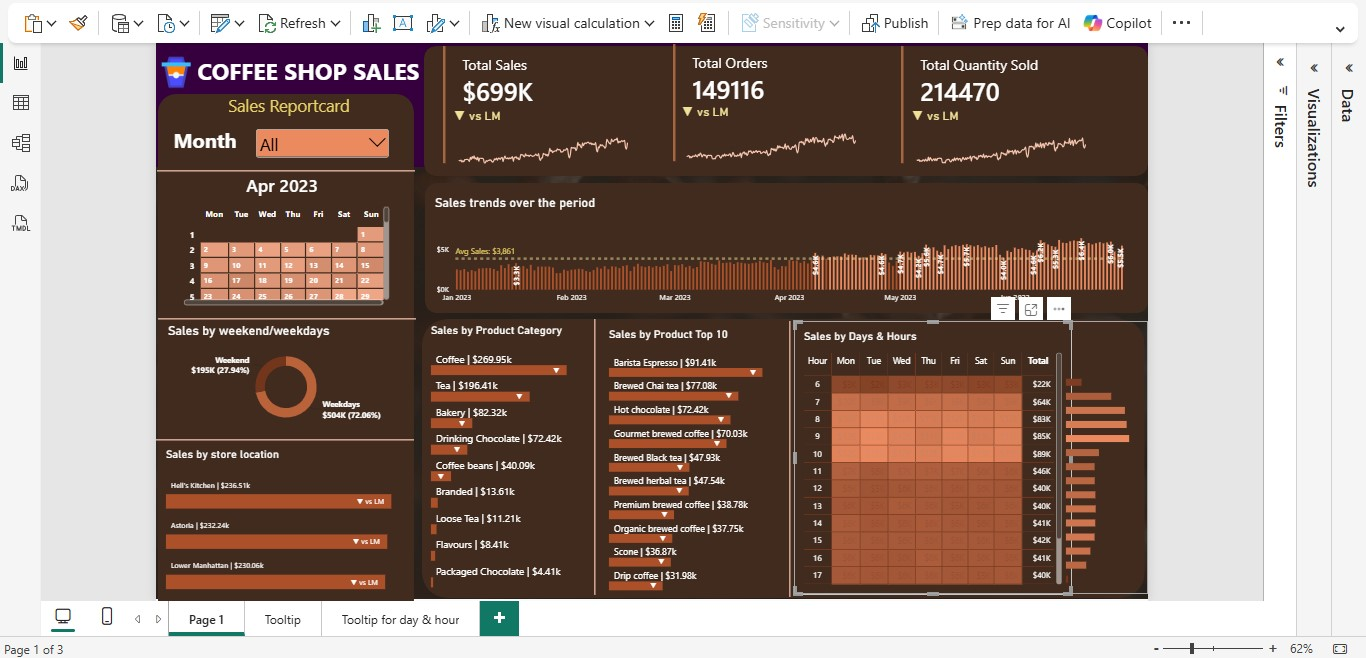

This screenshot's page, from the dashboard's own definition file:
{"tool":"powerbi","page":{"name":"Page 1","canvas":[1600,900],"ordinal":0},"visuals":[{"type":"shape","box":[0,0,1920,200],"z":0},{"type":"cardVisual","fields":{"Data":["Transactions.Total Orders"]},"box":[834.2,1.8,324.1,189.9],"z":0,"group":"g2"},{"type":"cardVisual","fields":{"Data":["Transactions.Total Sales"]},"box":[462.7,5.3,324.1,189.9],"z":0,"group":"g1"},{"type":"cardVisual","fields":{"Data":["Transactions.Total Quantity Sold"]},"box":[1201.5,5.3,324.1,189.9],"z":0,"group":"g3"},{"type":"pivotTable","title":"Sales by Days & Hours","fields":{"Columns":["DateTable.Day Name"],"Rows":["Transactions.Hour"],"Values":["Transactions.Total Sales"]},"box":[1029.2,447.7,448.2,441.1],"z":0,"group":"g4"},{"type":"shape","box":[3.5,81.5,412.8,997.4],"z":1000},{"type":"lineChart","fields":{"Category":["DateTable.Date Hierarchy.Date"],"Y":["Transactions.Total Orders"]},"box":[830.9,86,323.4,118.7],"z":1000,"group":"g2"},{"type":"lineChart","fields":{"Category":["DateTable.Date Hierarchy.Date"],"Y":["Transactions.Total Sales"]},"box":[462.4,92.8,323.4,118.7],"z":1000,"group":"g1"},{"type":"lineChart","fields":{"Category":["DateTable.Date Hierarchy.Date"],"Y":["Transactions.Total Quantity Sold"]},"box":[1201.2,92.8,323.4,118.7],"z":1000,"group":"g3"},{"type":"barChart","fields":{"Category":["Transactions.Hour"],"Y":["Transactions.Total Sales"]},"box":[1452.3,515.6,147,373.8],"z":1000,"group":"g4"},{"type":"shape","box":[432.3,5.3,1167.7,209.7],"z":2000},{"type":"textbox","box":[29,19.4,433.9,62.9],"z":3000},{"type":"slicer","fields":{"Values":["DateTable.Month Year"]},"box":[156.5,133.9,224.2,58.1],"z":4000},{"type":"group","id":"g1","title":"Group 1","box":[462.4,5.3,324.2,207.3],"z":5000},{"type":"group","id":"g2","title":"Group 1","box":[830.9,1.8,327.8,203.7],"z":6000},{"type":"group","id":"g3","title":"Group 1","box":[1201.2,5.3,326,205.5],"z":7000},{"type":"pivotTable","fields":{"Columns":["DateTable.Day Name"],"Rows":["DateTable.Week Number"],"Values":["Min(DateTable.Day Number)"]},"box":[29,250,362.9,188.7],"z":8000},{"type":"card","fields":{"Values":["Min(DateTable.Month Year)"]},"box":[118.7,199.6,168.3,63.8],"z":9000},{"type":"shape","box":[3.4,438.7,416.3,12.4],"z":10000},{"type":"shape","box":[1.7,199.6,416.3,12.4],"z":11000},{"type":"donutChart","title":"Sales by weekend/weekdays","fields":{"Category":["DateTable.Weekdays / Weekend"],"Y":["Transactions.Total Sales"]},"box":[3.4,438.7,412.8,194.9],"z":12000},{"type":"shape","box":[995.7,568.7,416.3,12.4],"z":13000},{"type":"clusteredBarChart","title":"Sales by store location","fields":{"Category":["Transactions.store_location"],"Y":["Transactions.Placeholder","Transactions.Total Sales"]},"box":[0,638.3,416.3,261.5],"z":14000},{"type":"shape","box":[433.9,225.8,1166.5,209.9],"z":15000},{"type":"columnChart","title":"Sales trends over the period","fields":{"Category":["Transactions.transaction_date"],"Y":["Transactions.Total Sales"]},"box":[433.9,232.3,1166.5,206.5],"z":16000},{"type":"shape","box":[428.7,444.7,1165.7,450],"z":17000},{"type":"clusteredBarChart","title":"Sales by Product Category","fields":{"Category":["Transactions.product_category"],"Y":["Transactions.Placeholder","Transactions.Total Sales"]},"box":[426.7,438.7,275.3,455.9],"z":18000},{"type":"shape","box":[0,634.3,416.3,12.4],"z":19000},{"type":"shape","box":[701.9,445.6,12.4,444.7],"z":20000},{"type":"clusteredBarChart","title":"Sales by Product Top 10","fields":{"Category":["Transactions.product_type"],"Y":["Transactions.Placeholder","Transactions.Total Sales"]},"box":[714,445.6,302.8,454.2],"z":21000},{"type":"shape","box":[1016.8,449,12.4,444.7],"z":22000},{"type":"group","id":"g4","title":"Group 2","box":[1029.2,447.7,570.1,441.7],"z":23000},{"type":"textbox","box":[1.6,133.9,154.8,58.1],"z":23001},{"type":"textbox","box":[29,82.3,371,51.6],"z":23002},{"type":"image","box":[0,0,64.5,91.9],"z":23003}]}

Visuals, with their boxes on the page's 1600x900 design canvas (x1, y1, x2, y2). These are canvas units, not pixel positions in the 1366x658 screenshot, which may show the page scaled, cropped or inside an application window:
shape: (left=0, top=0, right=1920, bottom=200)
cardVisual - Transactions.Total Orders: (left=834, top=2, right=1158, bottom=192)
cardVisual - Transactions.Total Sales: (left=463, top=5, right=787, bottom=195)
cardVisual - Transactions.Total Quantity Sold: (left=1202, top=5, right=1526, bottom=195)
"Sales by Days & Hours" pivotTable: (left=1029, top=448, right=1477, bottom=889)
shape: (left=4, top=82, right=416, bottom=1079)
lineChart - DateTable.Date Hierarchy.Date x Transactions.Total Orders: (left=831, top=86, right=1154, bottom=205)
lineChart - DateTable.Date Hierarchy.Date x Transactions.Total Sales: (left=462, top=93, right=786, bottom=212)
lineChart - DateTable.Date Hierarchy.Date x Transactions.Total Quantity Sold: (left=1201, top=93, right=1525, bottom=212)
barChart - Transactions.Hour x Transactions.Total Sales: (left=1452, top=516, right=1599, bottom=889)
shape: (left=432, top=5, right=1600, bottom=215)
textbox: (left=29, top=19, right=463, bottom=82)
slicer - DateTable.Month Year: (left=156, top=134, right=381, bottom=192)
"Group 1" group: (left=462, top=5, right=787, bottom=213)
"Group 1" group: (left=831, top=2, right=1159, bottom=206)
"Group 1" group: (left=1201, top=5, right=1527, bottom=211)
pivotTable - DateTable.Day Name x DateTable.Week Number: (left=29, top=250, right=392, bottom=439)
card - Min(DateTable.Month Year): (left=119, top=200, right=287, bottom=263)
shape: (left=3, top=439, right=420, bottom=451)
shape: (left=2, top=200, right=418, bottom=212)
"Sales by weekend/weekdays" donutChart: (left=3, top=439, right=416, bottom=634)
shape: (left=996, top=569, right=1412, bottom=581)
"Sales by store location" clusteredBarChart: (left=0, top=638, right=416, bottom=900)
shape: (left=434, top=226, right=1600, bottom=436)
"Sales trends over the period" columnChart: (left=434, top=232, right=1600, bottom=439)
shape: (left=429, top=445, right=1594, bottom=895)
"Sales by Product Category" clusteredBarChart: (left=427, top=439, right=702, bottom=895)
shape: (left=0, top=634, right=416, bottom=647)
shape: (left=702, top=446, right=714, bottom=890)
"Sales by Product Top 10" clusteredBarChart: (left=714, top=446, right=1017, bottom=900)
shape: (left=1017, top=449, right=1029, bottom=894)
"Group 2" group: (left=1029, top=448, right=1599, bottom=889)
textbox: (left=2, top=134, right=156, bottom=192)
textbox: (left=29, top=82, right=400, bottom=134)
image: (left=0, top=0, right=64, bottom=92)
